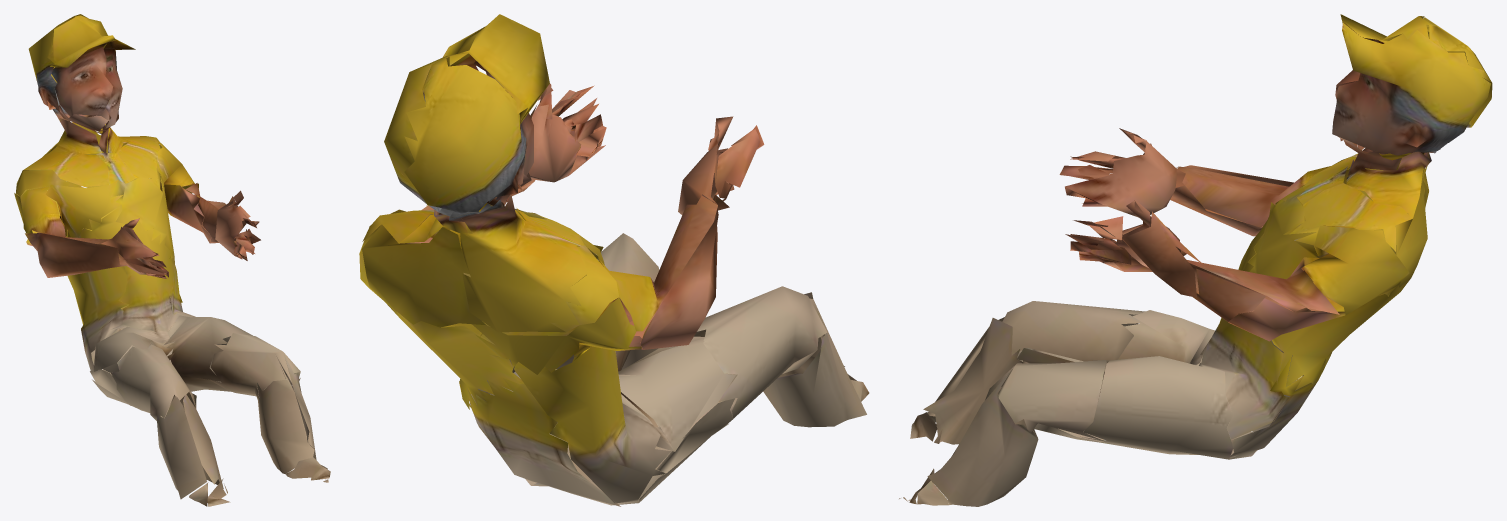
Rendered from fan_jaune.glb.
3 renders of one model, left to right at view 1: azimuth 30°, elevation 25°; view 2: azimuth 150°, elevation 25°; view 3: azimuth 270°, elevation 25°, orthographic. The views are drawn at different scales.
Visible parts, largest first — view 1: driver; view 2: driver; view 3: driver.
Boxes of the visible parts, x1=… form: driver: x1=14, y1=14, x2=330, y2=506; driver: x1=359, y1=14, x2=869, y2=506; driver: x1=899, y1=14, x2=1492, y2=506.
Size of the model in its own units: 0.5717 by 0.98 by 1.18.
Materials: 1 (1 with a texture image).
